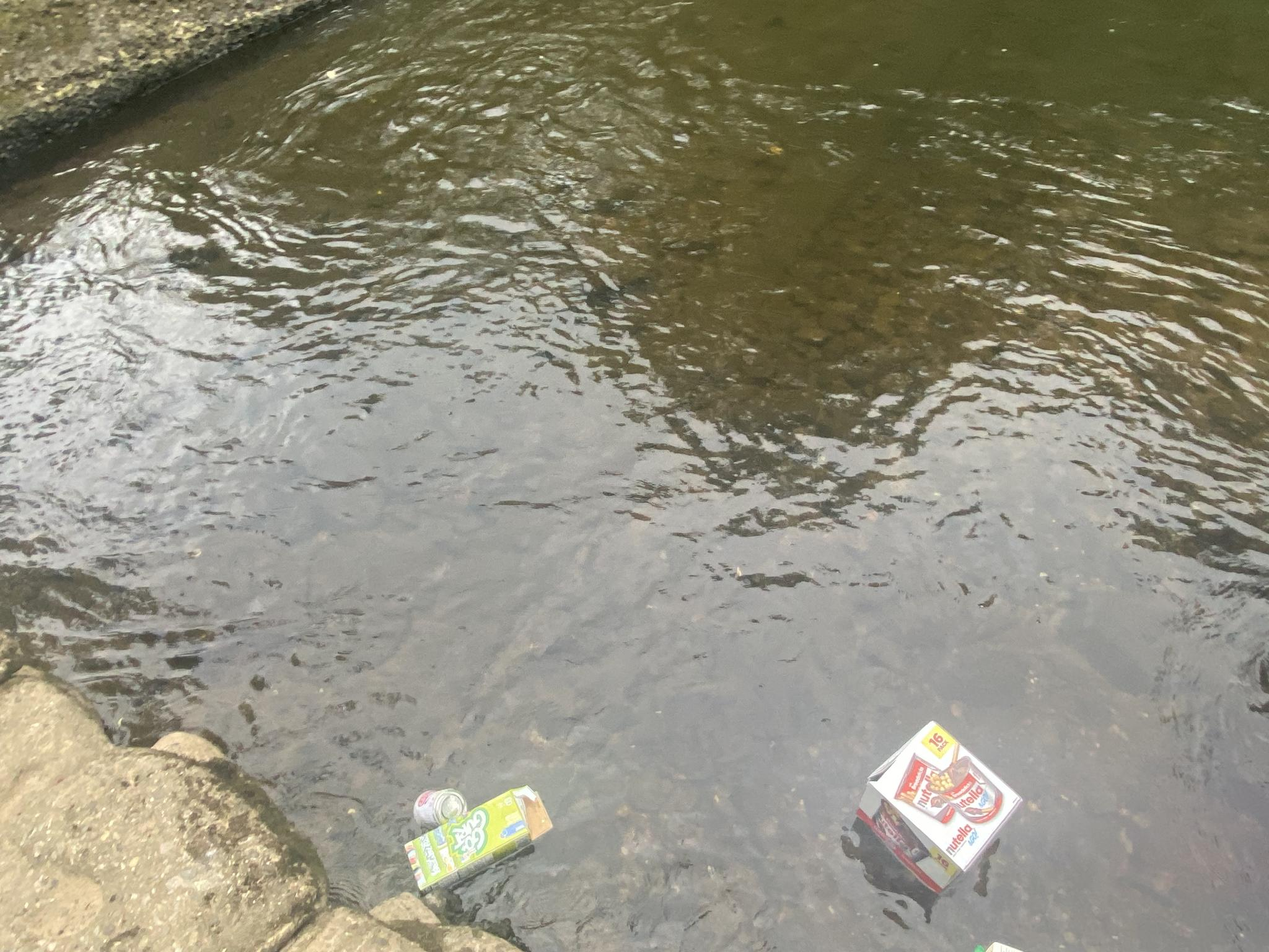cardboard: (842, 718, 1037, 904), (389, 776, 562, 897), (966, 934, 1035, 952)
metal: (400, 770, 476, 839)
